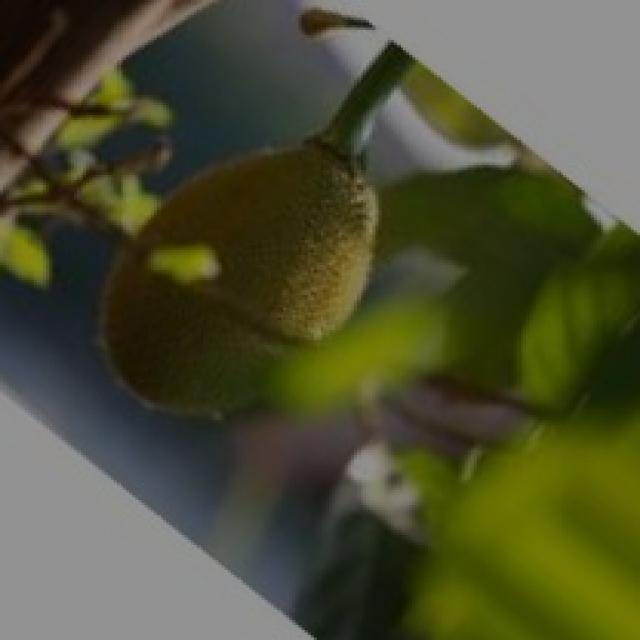Fruit: (58, 112, 416, 382)
